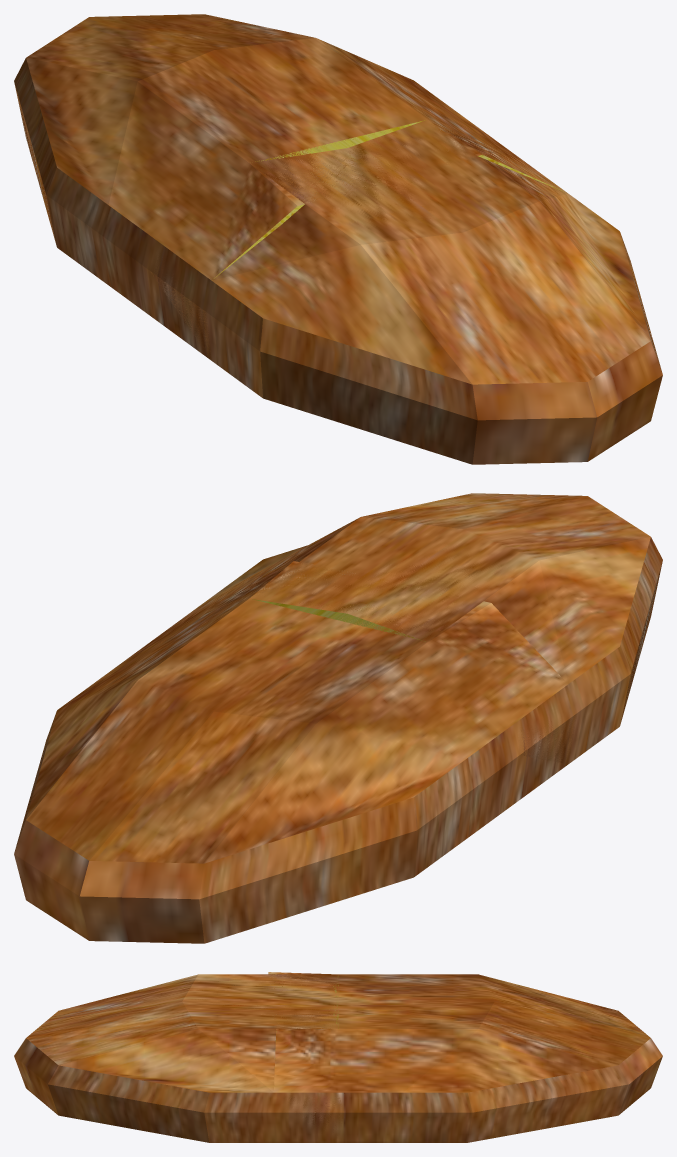
The model's file is Loaf.fbx.
The picture shows the model from 3 angles, top to bottom: view 1: azimuth 30°, elevation 25°; view 2: azimuth 150°, elevation 25°; view 3: azimuth 270°, elevation 25°; orthographic projection. The views are drawn at different scales.
Parts seen in each view (by area): view 1: Loaf(full fresh), Loaf(half fresh), Loaf(slice fresh); view 2: Loaf(full fresh), Loaf(half fresh), Loaf(slice fresh); view 3: Loaf(full fresh), Loaf(slice fresh), Loaf(half fresh).
Part boxes in pixels (x1,y1,x2,y2): Loaf(full fresh): (14, 14, 662, 464); Loaf(half fresh): (149, 120, 462, 358); Loaf(slice fresh): (212, 119, 567, 279); Loaf(full fresh): (14, 493, 662, 943); Loaf(half fresh): (252, 530, 576, 763); Loaf(slice fresh): (161, 561, 567, 683); Loaf(full fresh): (14, 974, 662, 1142); Loaf(slice fresh): (268, 972, 338, 1092); Loaf(half fresh): (182, 974, 344, 1141).
Bounding box in the file's own units: 101 × 42.98 × 246.
Materials: 9 (9 with a texture image).
